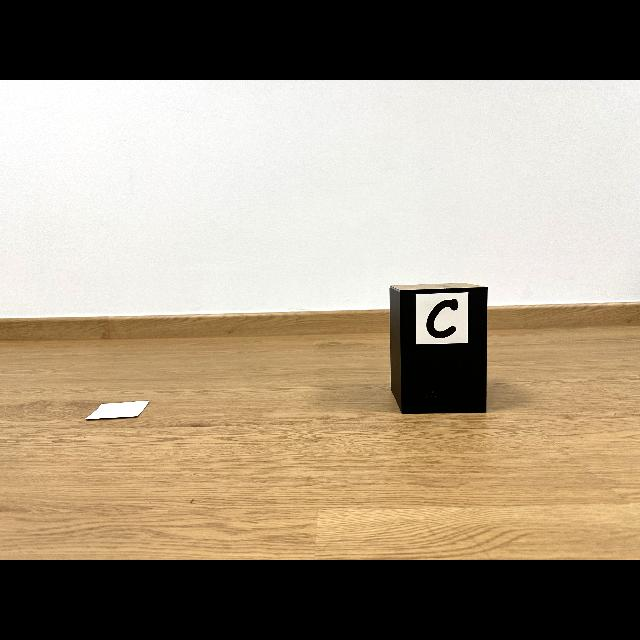C: (426, 299, 458, 339)
